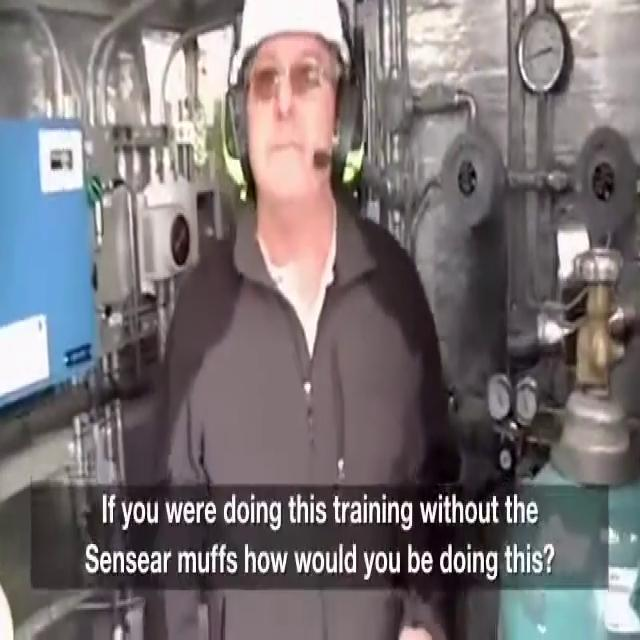earmuff: (328, 72, 370, 210), (218, 78, 260, 208)
glasses: (246, 52, 332, 110)
